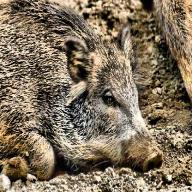boar: (0, 0, 170, 180)
